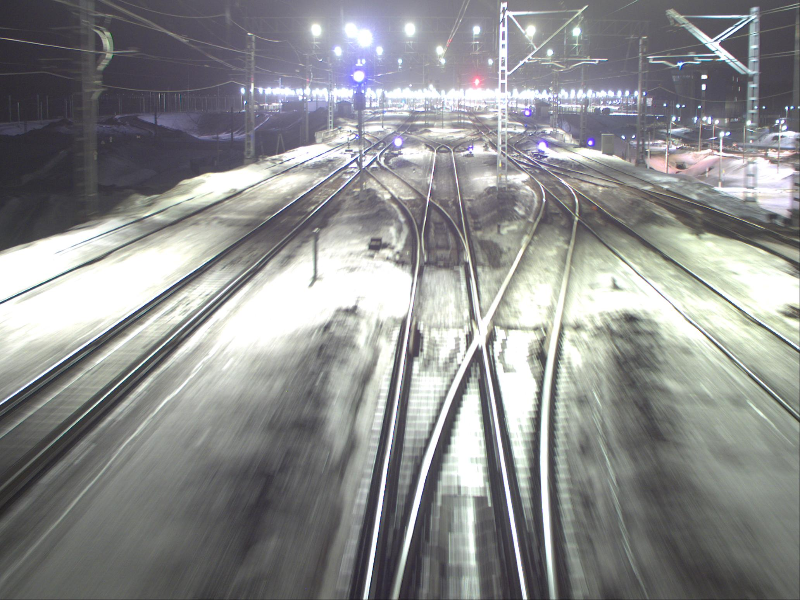left: (414, 230, 471, 264)
